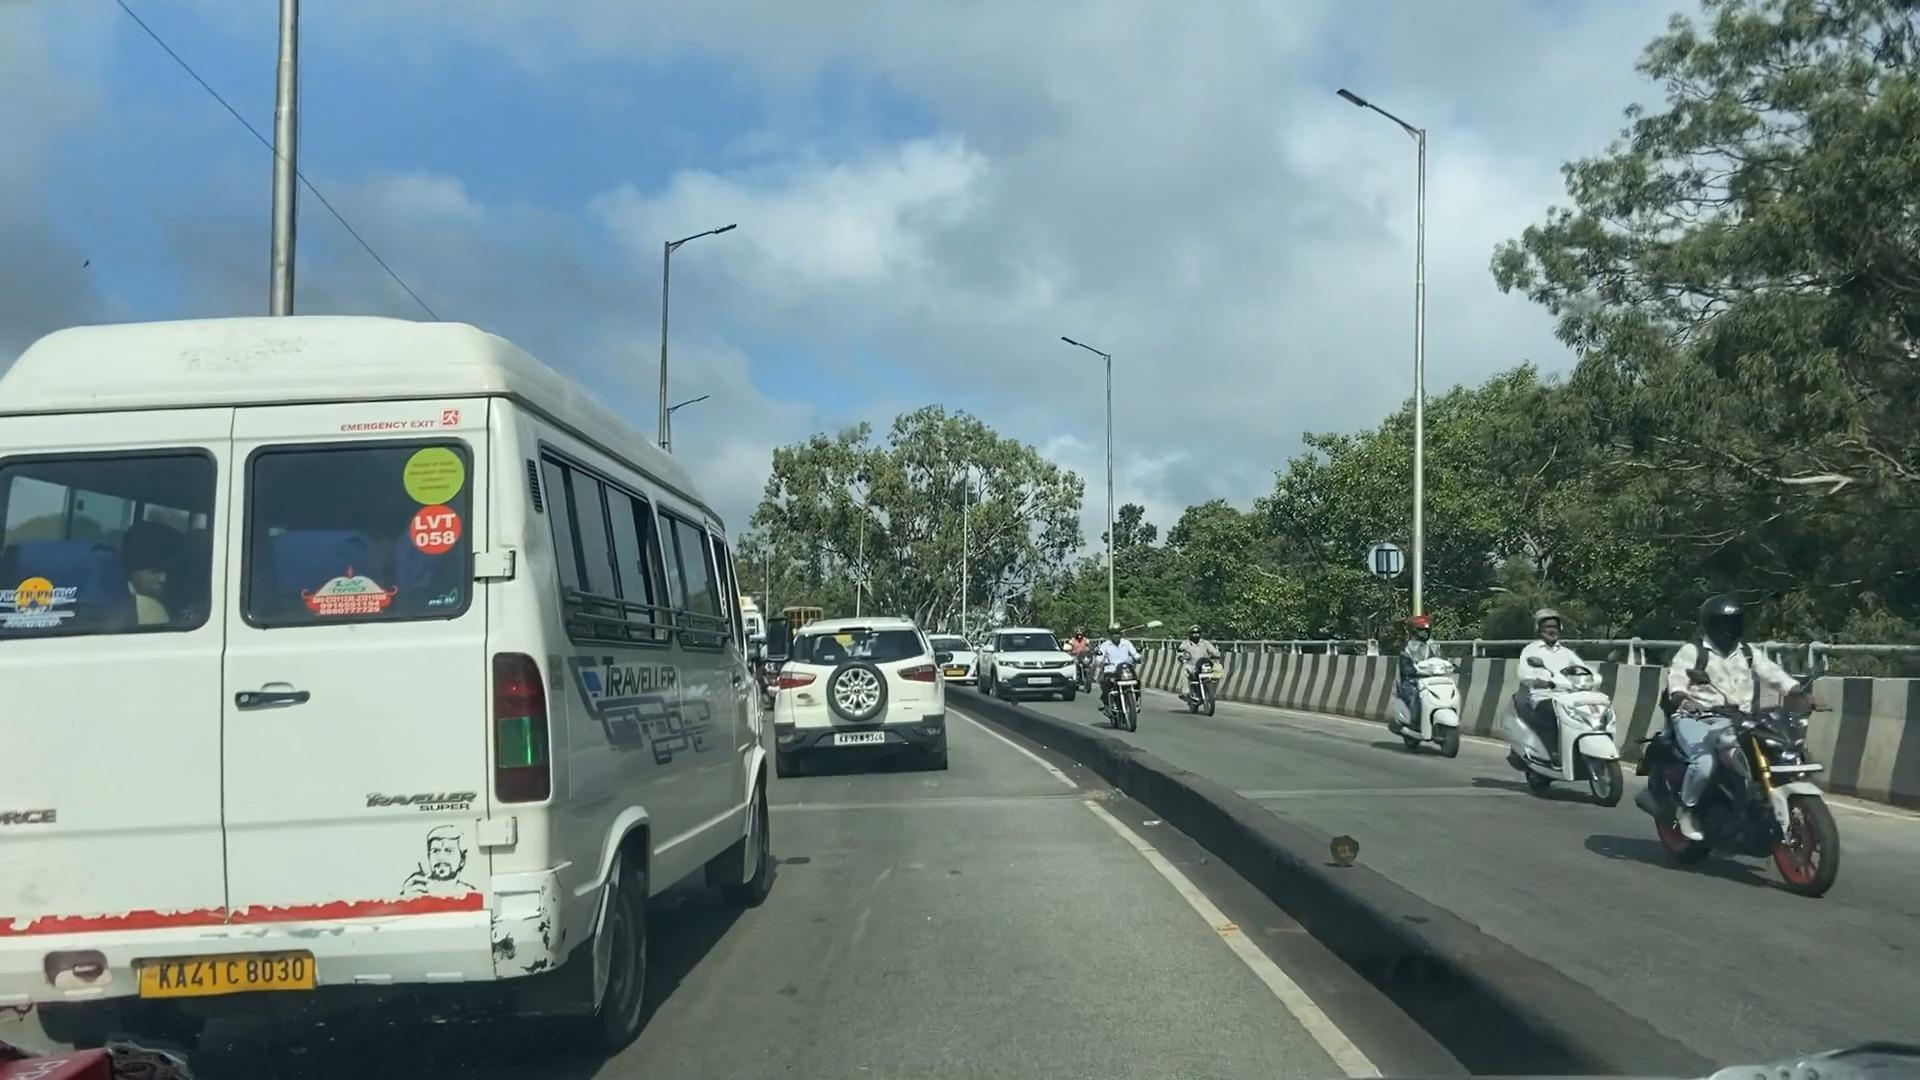HMV: (4, 313, 765, 1038)
LMV: (778, 618, 948, 758)
SpeedBump: (765, 787, 1102, 816)
